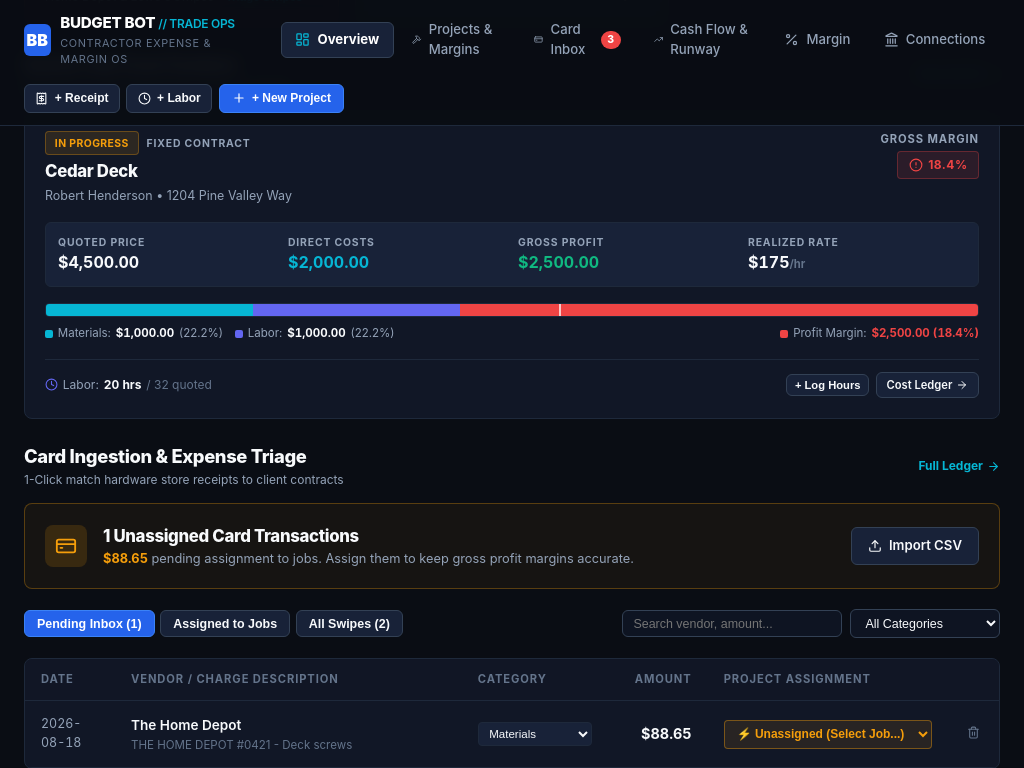
Test: DashboardView › opens quick add against the job whose button was pressed
(page scrolled)
What coordinates should you click on to do the following:
click the button "+ Log Hours"
I would click on:
 (828, 385)
Its box is [786,374,870,396].
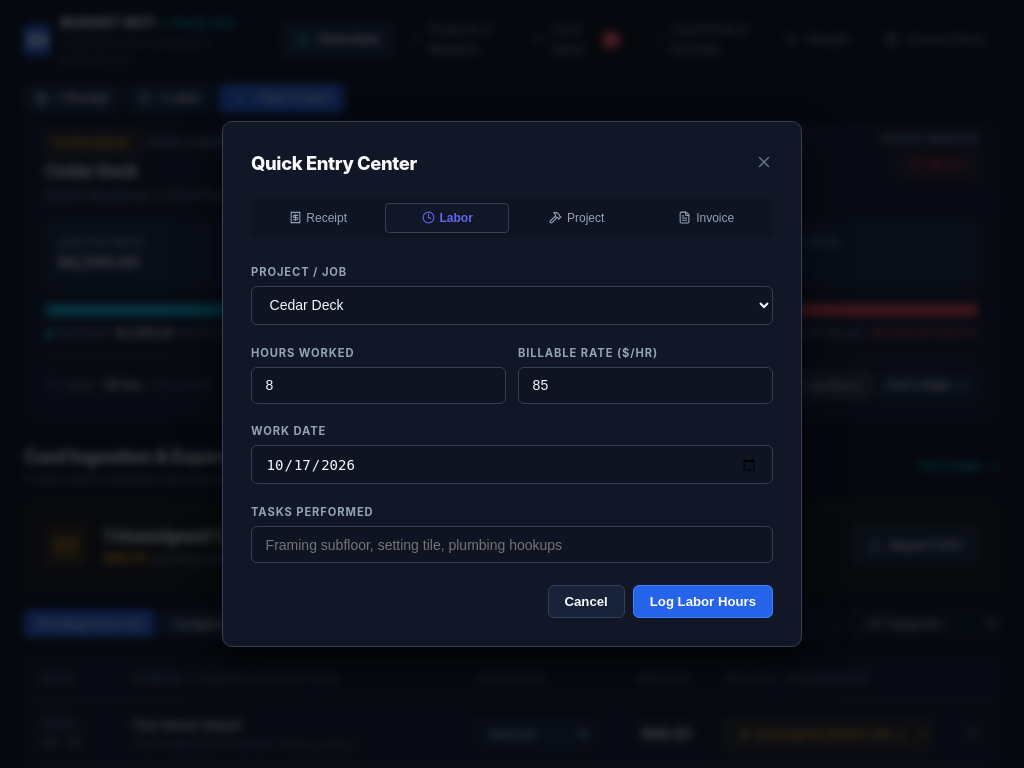
Now the dropdown labelled "Project / Job" shows "Cedar Deck", box [251,286,773,325]
